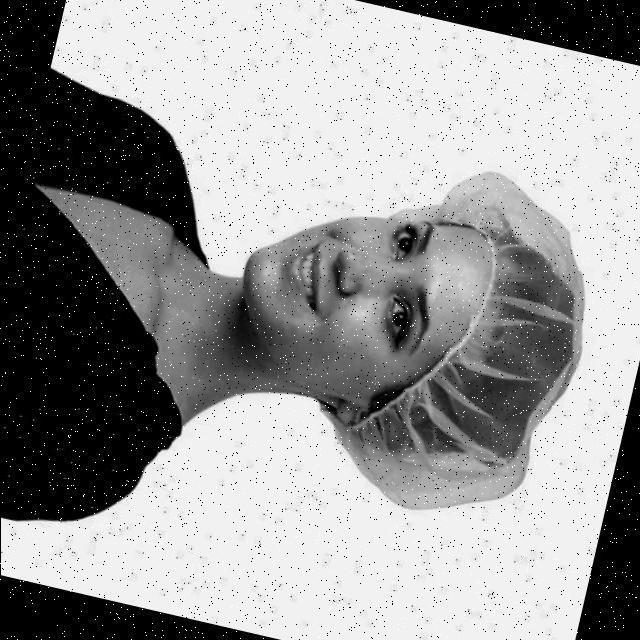gloves: (438, 152, 555, 492)
no_hairnet: (278, 222, 382, 364)
